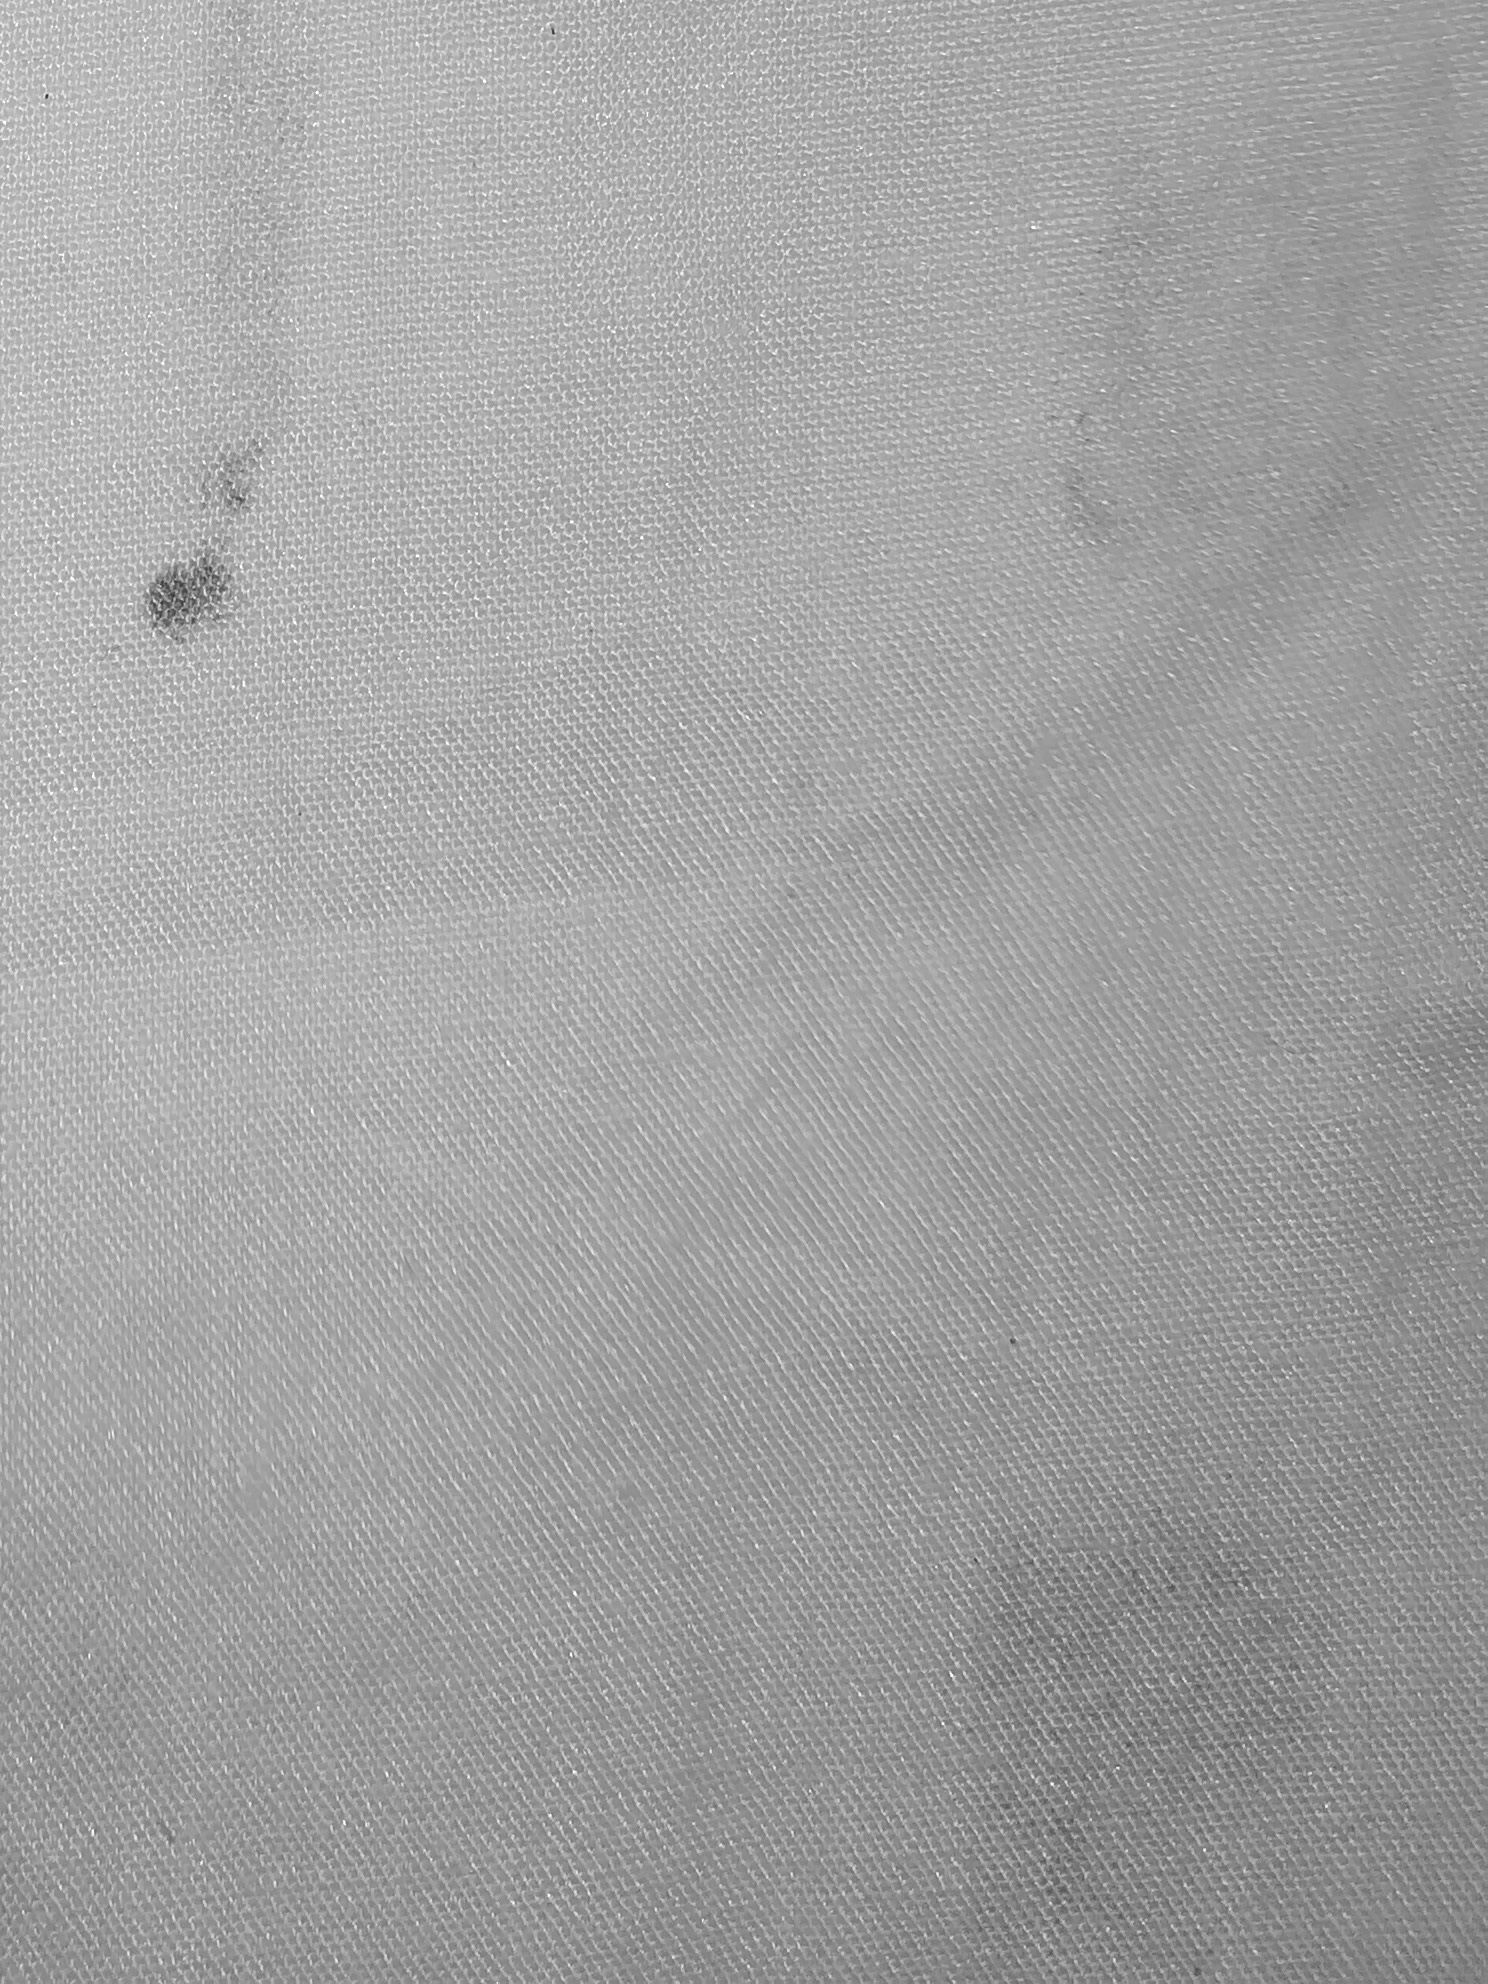Stain: (41, 319, 324, 676)
